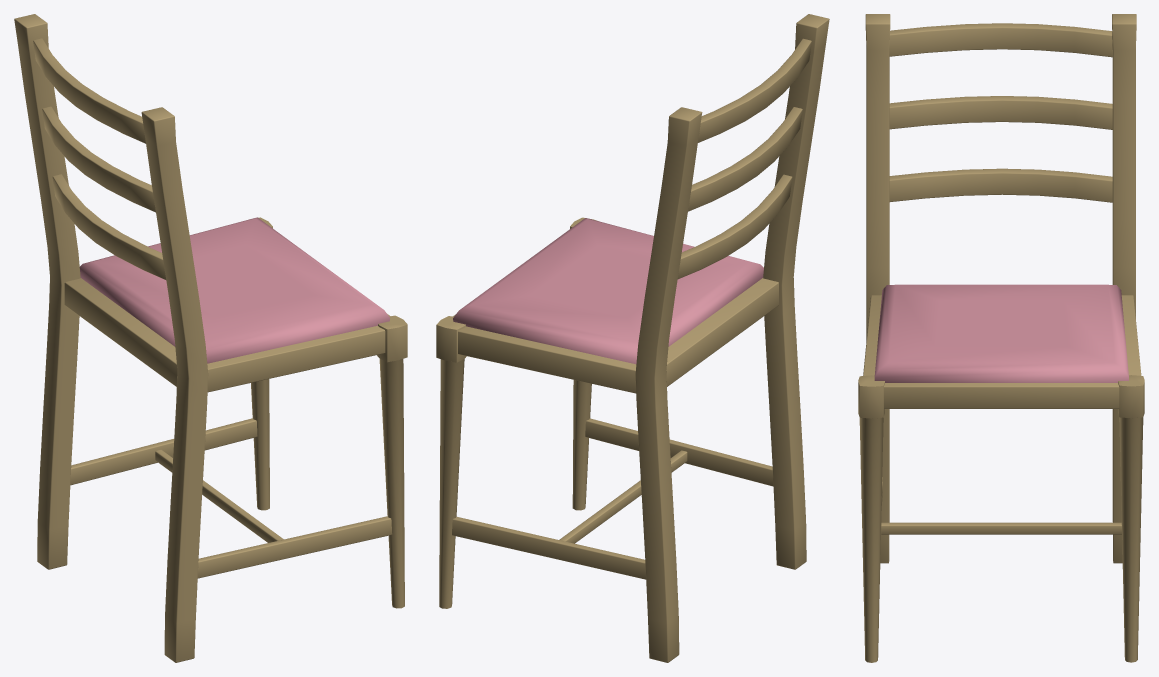
Rendered from GR_Chair.fbx.
3 views of the same model, side by side, from view 1: azimuth 30°, elevation 25°; view 2: azimuth 150°, elevation 25°; view 3: azimuth 270°, elevation 25° (orthographic). The views are drawn at different scales.
Parts seen in each view (by area): view 1: Chair; view 2: Chair; view 3: Chair.
Part boxes in pixels (left/top/right/bottom): Chair: left=14, top=14, right=407, bottom=662; Chair: left=436, top=14, right=829, bottom=662; Chair: left=858, top=14, right=1144, bottom=662.
Bounding box in the file's own units: 135 × 269 × 132.
